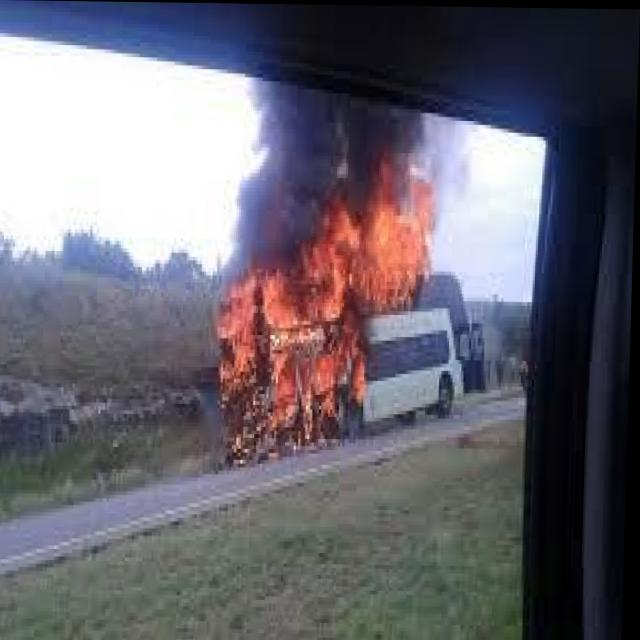fire: (210, 146, 456, 454)
